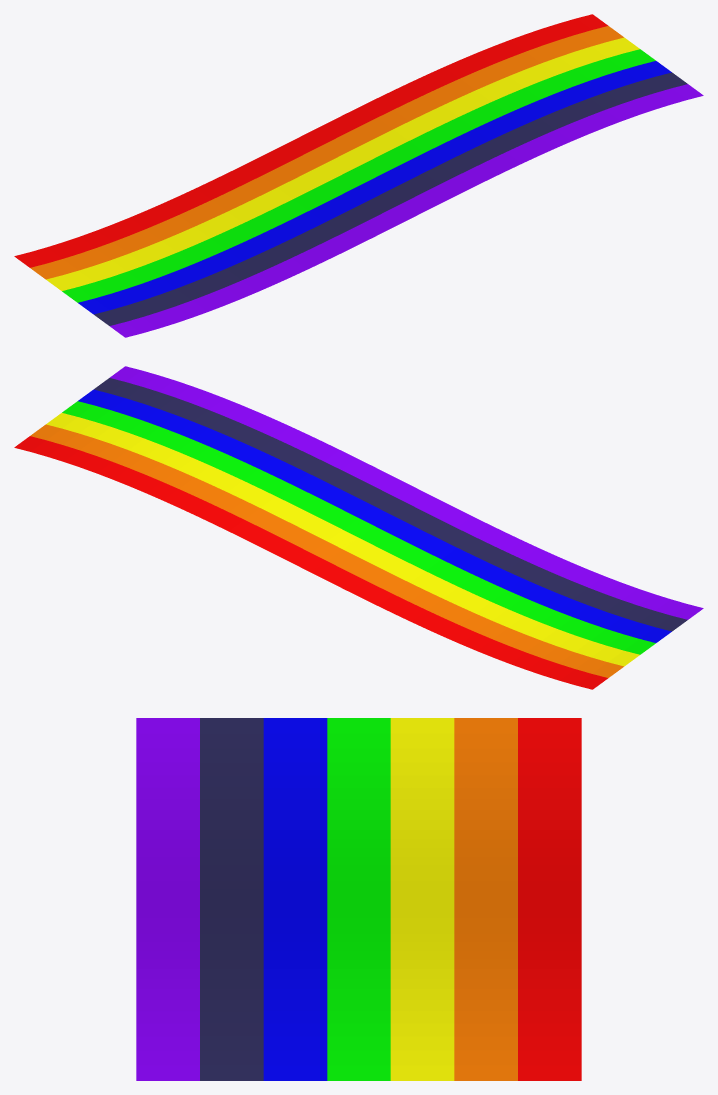
The model's file is Rainbow Curve End.fbx.
3 views of the same model, one above another, from view 1: azimuth 30°, elevation 25°; view 2: azimuth 150°, elevation 25°; view 3: azimuth 270°, elevation 25° (orthographic). The views are drawn at different scales.
Parts seen in each view (by area): view 1: Rainbow Curve End; view 2: Rainbow Curve End; view 3: Rainbow Curve End.
Part boxes in pixels (x1=…): Rainbow Curve End: x1=14, y1=14, x2=703, y2=337; Rainbow Curve End: x1=14, y1=366, x2=703, y2=689; Rainbow Curve End: x1=136, y1=718, x2=581, y2=1080.
Bounding box in the file's own units: 300 × 50 × 100.
